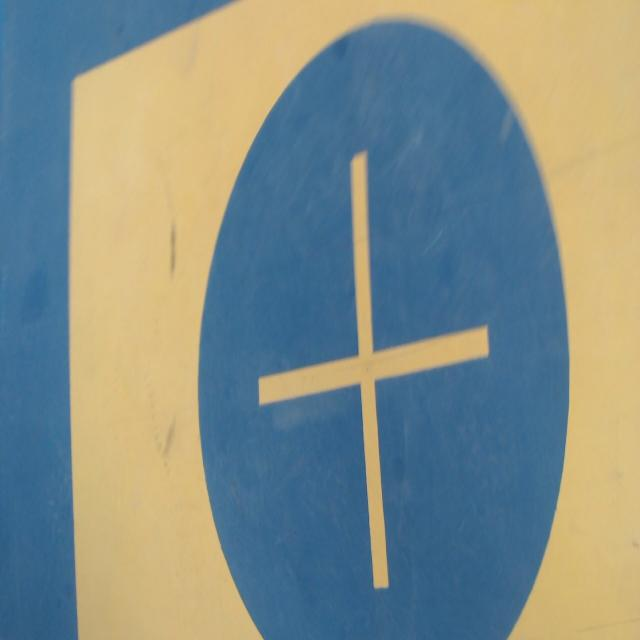base_inicio: (68, 0, 640, 639)
